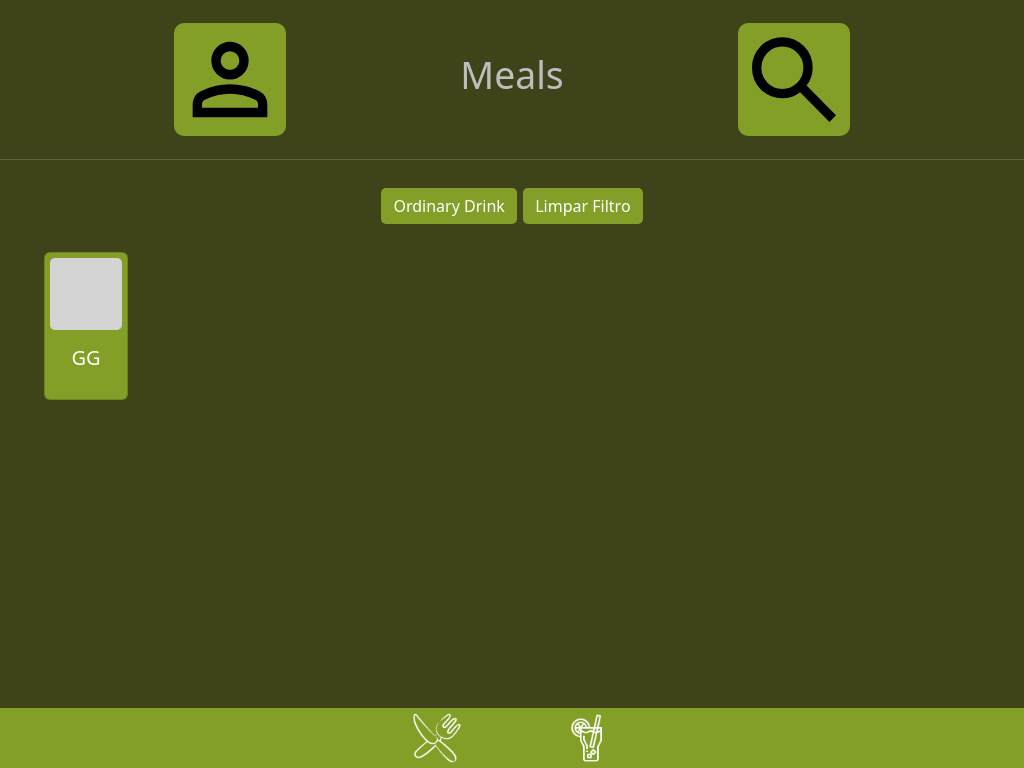
Testes do Header › quando clicamos no botão perfil a rota atualiza para si mesma
Click the button with test id "profile-top-btn": (230, 79) left=161, top=16, right=299, bottom=143
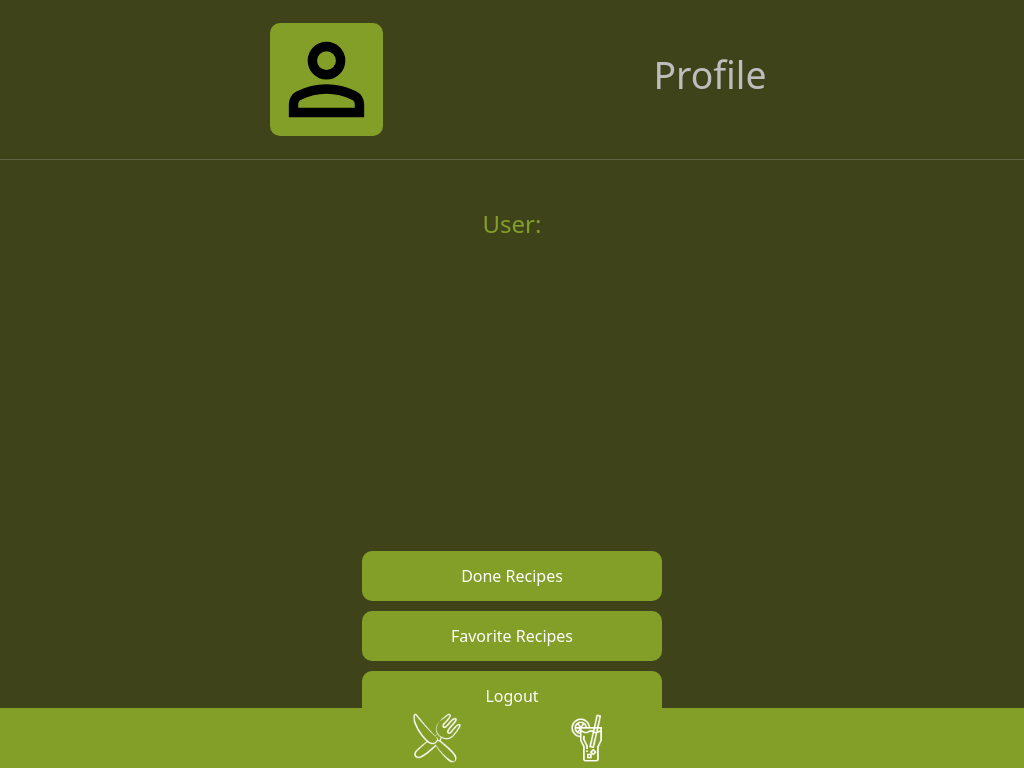
Expected: the heading "Profile" is shown, left=654, top=53, right=767, bottom=98
